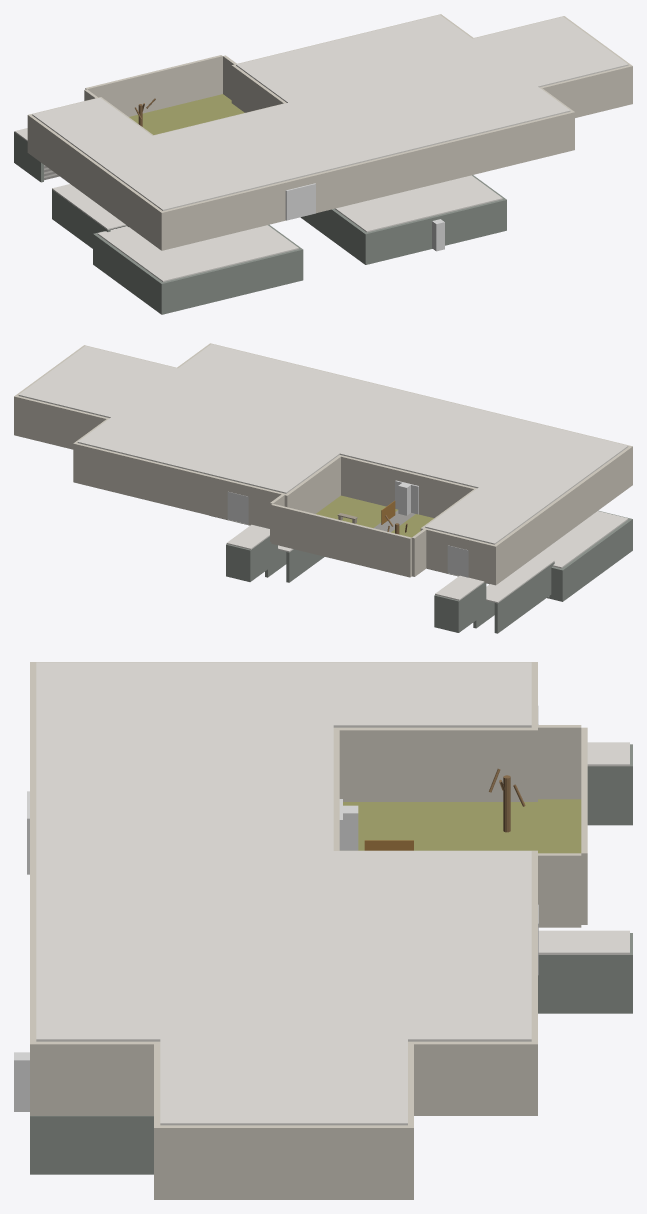
The model's file is New Horror Map.fbx.
3 renders of one model, top to bottom at view 1: azimuth 30°, elevation 25°; view 2: azimuth 150°, elevation 25°; view 3: azimuth 270°, elevation 25°, orthographic. The views are drawn at different scales.
Visible parts, largest first — view 1: OBJ_MainHall_Ceiling, OBJ_CorridorA_Ceiling, OBJ_CorridorB_Ceiling, OBJ_Classroom_Ceiling, OBJ_Library_Ceiling, OBJ_ScienceLab_Ceiling, OBJ_StaffRoom_Ceiling, OBJ_B1_GameRoom_Ceiling, OBJ_CorridorA_Wall_W, OBJ_B1_GameRoom_Wall_S, OBJ_Classroom_Wall_S, OBJ_Courtyard_Wall_North (+15 smaller); view 2: OBJ_CorridorB_Ceiling, OBJ_MainHall_Ceiling, OBJ_CorridorA_Ceiling, OBJ_Library_Ceiling, OBJ_ScienceLab_Ceiling, OBJ_StaffRoom_Ceiling, OBJ_Courtyard_Wall_North, OBJ_CorridorA_Wall_W, OBJ_Classroom_Ceiling, OBJ_Library_Wall_N, OBJ_MainHall_Wall_N, OBJ_StaffRoom_Wall_N (+20 smaller); view 3: OBJ_MainHall_Ceiling, OBJ_CorridorB_Ceiling, OBJ_CorridorA_Ceiling, OBJ_Library_Ceiling, OBJ_ScienceLab_Ceiling, OBJ_StaffRoom_Ceiling, OBJ_StaffRoom_Wall_E, OBJ_CorridorA_Wall_E, OBJ_Classroom_Ceiling, OBJ_Courtyard_Ground, OBJ_ScienceLab_Wall_E, OBJ_Library_Wall_E (+17 smaller).
Boxes of the visible parts, box(x1,y1,x2,y2) form: OBJ_MainHall_Ceiling: box(153, 103, 366, 194); OBJ_CorridorA_Ceiling: box(32, 97, 230, 210); OBJ_CorridorB_Ceiling: box(236, 42, 451, 160); OBJ_Classroom_Ceiling: box(302, 85, 479, 161); OBJ_Library_Ceiling: box(327, 15, 504, 89); OBJ_ScienceLab_Ceiling: box(415, 62, 570, 134); OBJ_StaffRoom_Ceiling: box(473, 16, 628, 87); OBJ_B1_GameRoom_Ceiling: box(97, 225, 298, 281); OBJ_CorridorA_Wall_W: box(29, 115, 162, 249); OBJ_B1_GameRoom_Wall_S: box(160, 248, 303, 314); OBJ_Classroom_Wall_S: box(364, 133, 484, 200); OBJ_Courtyard_Wall_North: box(85, 55, 222, 116); OBJ_CorridorB_Ceiling: box(193, 372, 418, 493); OBJ_MainHall_Ceiling: box(339, 395, 558, 488); OBJ_CorridorA_Ceiling: box(425, 429, 628, 544); OBJ_Library_Ceiling: box(77, 393, 259, 471); OBJ_ScienceLab_Ceiling: box(145, 344, 326, 415); OBJ_StaffRoom_Ceiling: box(18, 346, 177, 417); OBJ_Courtyard_Wall_North: box(271, 504, 411, 577); OBJ_CorridorA_Wall_W: box(495, 447, 631, 583); OBJ_Classroom_Ceiling: box(237, 366, 419, 443); OBJ_Library_Wall_N: box(73, 442, 194, 511); OBJ_MainHall_Wall_N: box(338, 455, 476, 518); OBJ_StaffRoom_Wall_N: box(14, 395, 108, 449); OBJ_MainHall_Ceiling: box(36, 725, 333, 850); OBJ_CorridorB_Ceiling: box(36, 851, 531, 934); OBJ_CorridorA_Ceiling: box(36, 662, 531, 727); OBJ_Library_Ceiling: box(284, 934, 531, 1041); OBJ_ScienceLab_Ceiling: box(36, 934, 283, 1041); OBJ_StaffRoom_Ceiling: box(160, 1039, 407, 1125); OBJ_StaffRoom_Wall_E: box(160, 1125, 407, 1199); OBJ_CorridorA_Wall_E: box(333, 727, 531, 801); OBJ_Classroom_Ceiling: box(36, 851, 283, 955); OBJ_Courtyard_Ground: box(343, 799, 581, 853); OBJ_ScienceLab_Wall_E: box(36, 1041, 160, 1115); OBJ_Library_Wall_E: box(408, 1041, 531, 1115).
Bounding box in the file's own units: 4450 × 880 × 2498.
